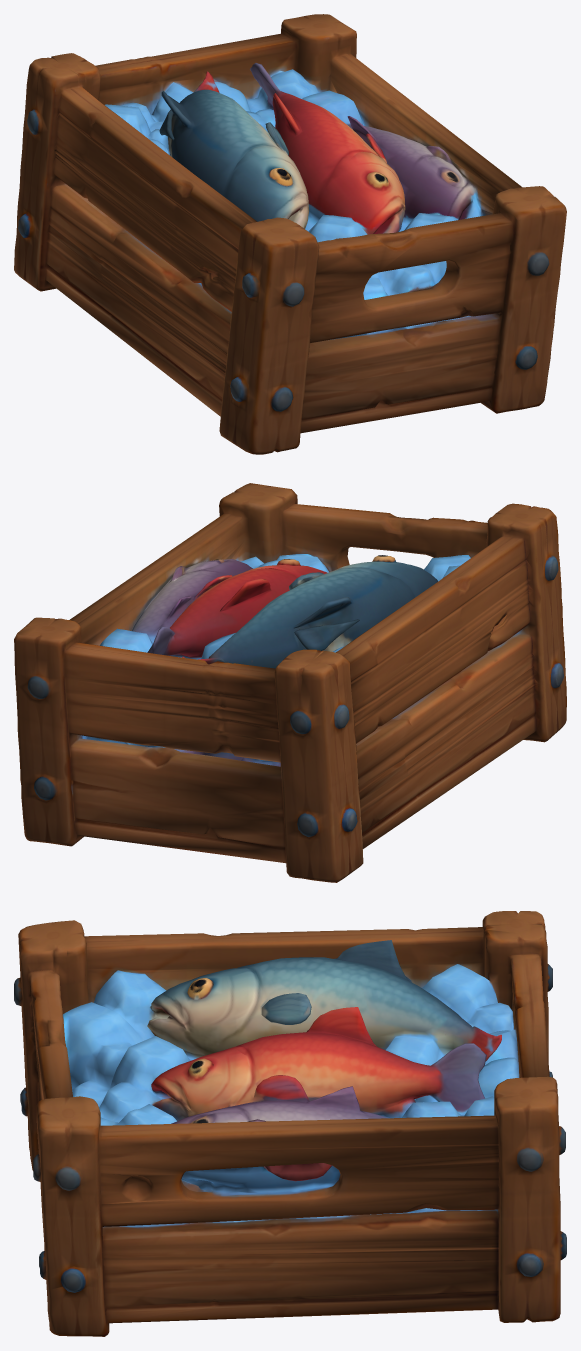
Rendered from fish_crate.glb.
The picture shows the model from 3 angles, top to bottom: view 1: azimuth 30°, elevation 25°; view 2: azimuth 150°, elevation 25°; view 3: azimuth 270°, elevation 25°; orthographic projection. The views are drawn at different scales.
Parts seen in each view (by area): view 1: tripo_node_f91eb3be-2b4c-481d-80d3-22e4b7c80b02; view 2: tripo_node_f91eb3be-2b4c-481d-80d3-22e4b7c80b02; view 3: tripo_node_f91eb3be-2b4c-481d-80d3-22e4b7c80b02.
Part boxes in pixels (x1=…): tripo_node_f91eb3be-2b4c-481d-80d3-22e4b7c80b02: x1=14, y1=14, x2=566, y2=454; tripo_node_f91eb3be-2b4c-481d-80d3-22e4b7c80b02: x1=14, y1=483, x2=566, y2=882; tripo_node_f91eb3be-2b4c-481d-80d3-22e4b7c80b02: x1=14, y1=911, x2=566, y2=1336.
Size of the model in its own units: 0.7342 by 0.5424 by 0.9795.
Materials: 1 (1 with a texture image).
